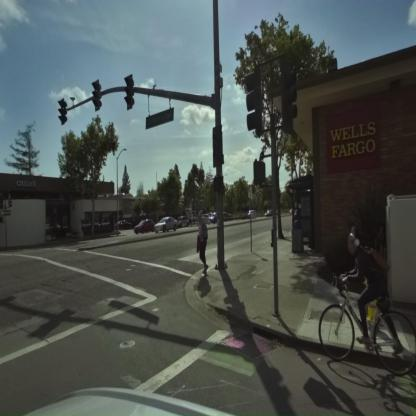bicycle: (316, 275, 416, 376)
car: (155, 217, 179, 233), (135, 219, 156, 233), (200, 213, 217, 225), (116, 219, 132, 231), (176, 215, 190, 228)
person: (337, 229, 389, 349)
